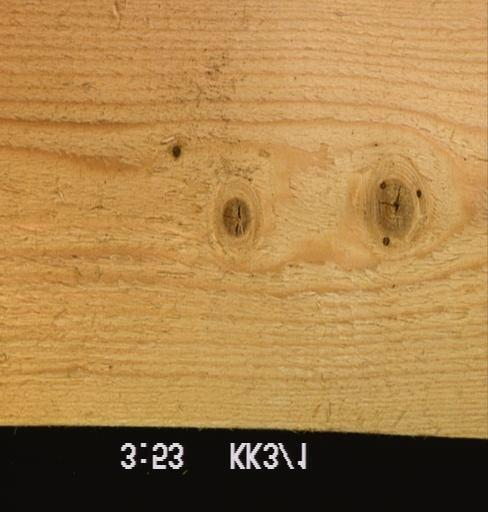dry_knot: (169, 142, 183, 161)
sound_knot: (370, 177, 421, 249), (219, 195, 251, 240)
